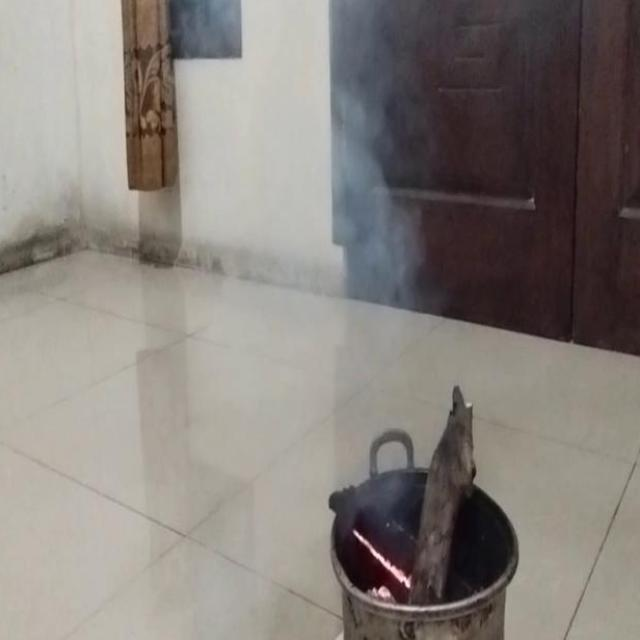fire: (206, 0, 412, 255)
